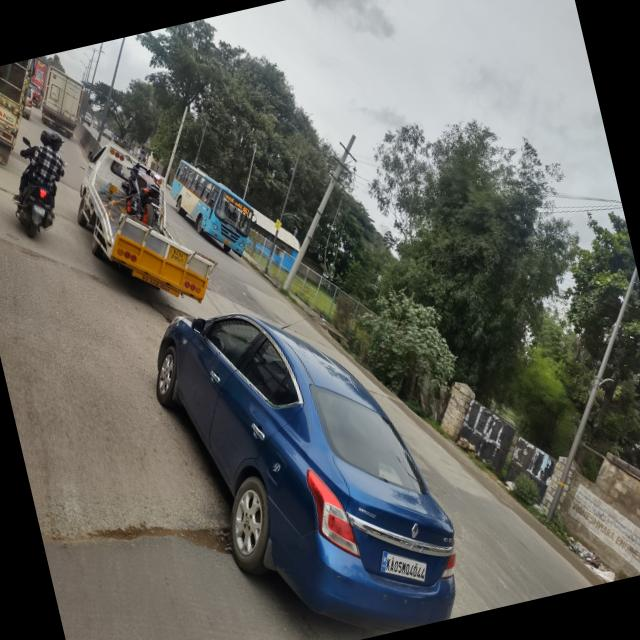bus: (158, 142, 262, 266)
display: (224, 184, 252, 221)
dnumber: (242, 204, 250, 216)
